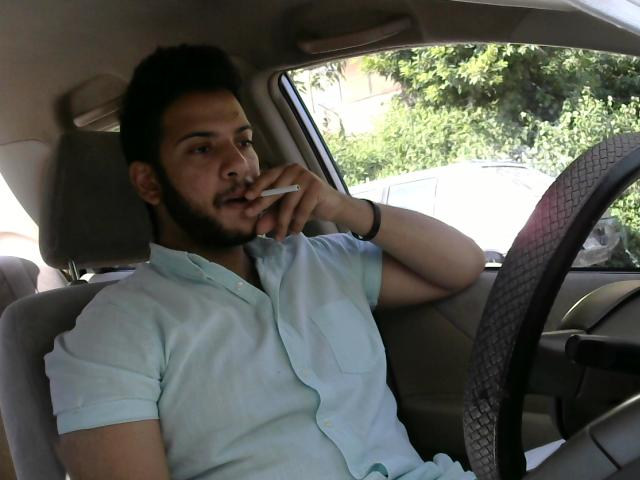Smoking: (236, 183, 303, 198)
